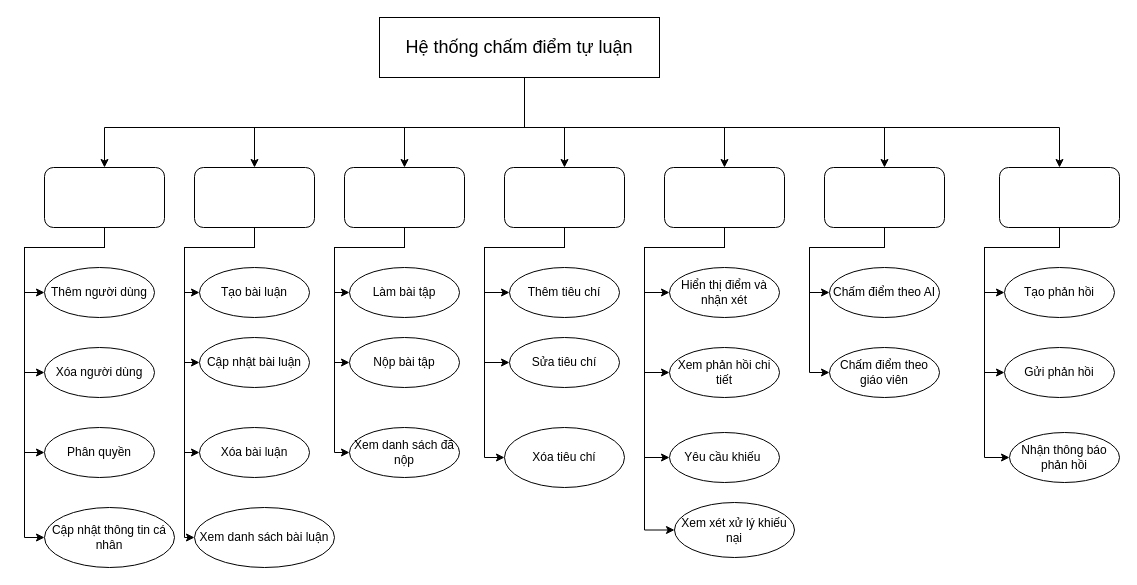
The diagram is 1137 pixels wide and 585 high, and some of its shapes have lost their labels. The centre of each missing label's shape, as x and y in pixels:
Chấm điểm: the point at 884,197
Phản hồi: the point at 1059,197
Quản lý bài luận: the point at 254,197
Quản lý bài tập: the point at 404,197
Quản lý người dùng: the point at 104,197
Quản lý tiêu chí chấm điểm: the point at 564,197
Xem điểm: the point at 724,197
